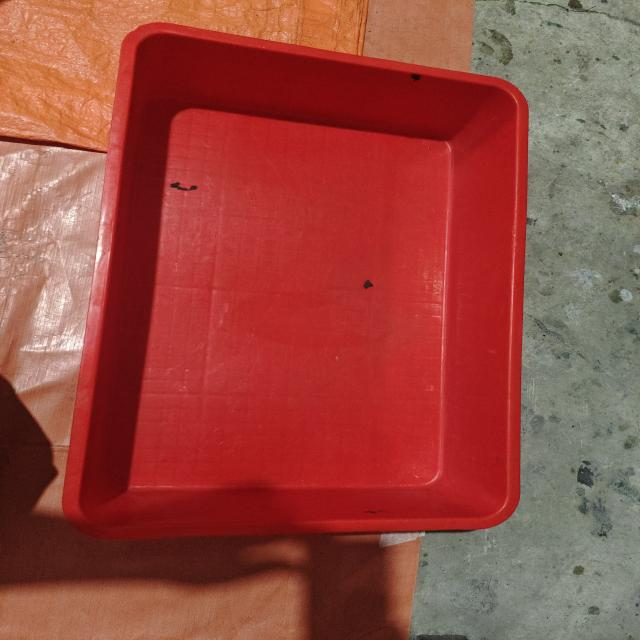red plastic box: (62, 22, 528, 538)
